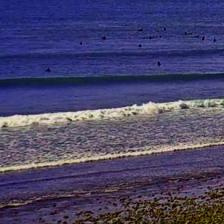surfer: (184, 32, 192, 36), (45, 68, 51, 72), (137, 29, 143, 32), (143, 37, 149, 40), (148, 36, 154, 39), (191, 36, 200, 38), (158, 61, 161, 66), (155, 36, 161, 38), (156, 29, 160, 32), (202, 36, 205, 40), (139, 44, 142, 47), (213, 39, 216, 42), (104, 36, 106, 40), (79, 42, 82, 44), (164, 28, 166, 31)
